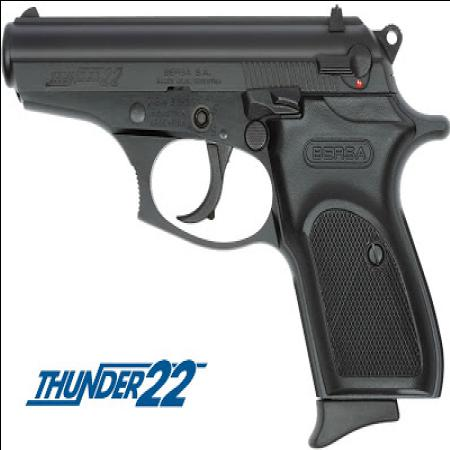Pistol: (1, 5, 442, 440)
